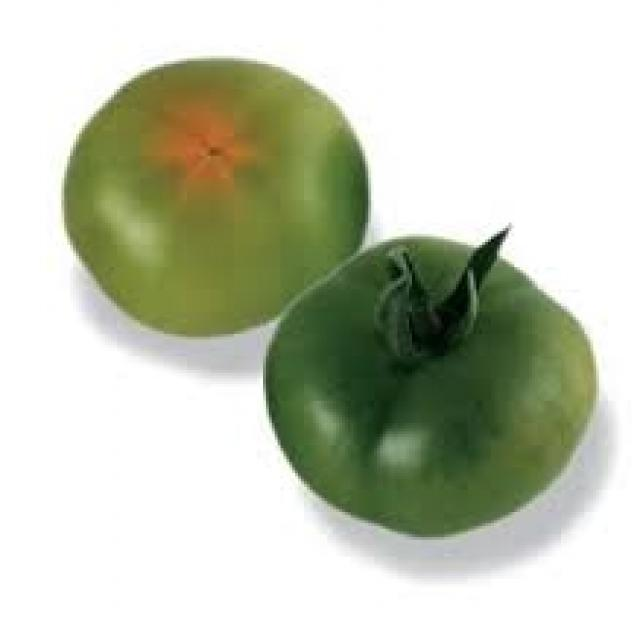organic waste: (260, 231, 596, 534), (59, 53, 368, 331)
